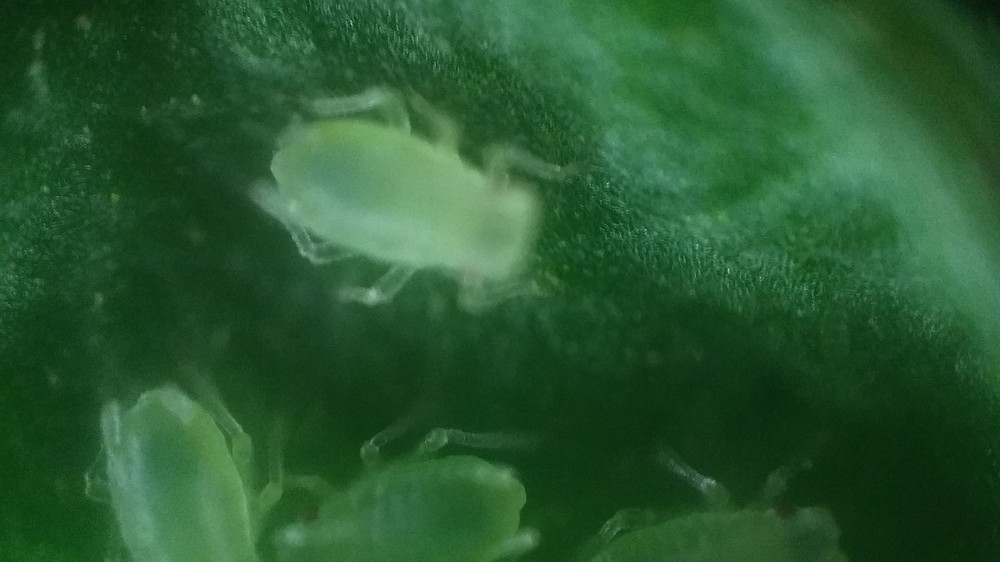Pulgon: (246, 79, 597, 327), (266, 403, 569, 562), (73, 357, 296, 562), (573, 412, 863, 562)
